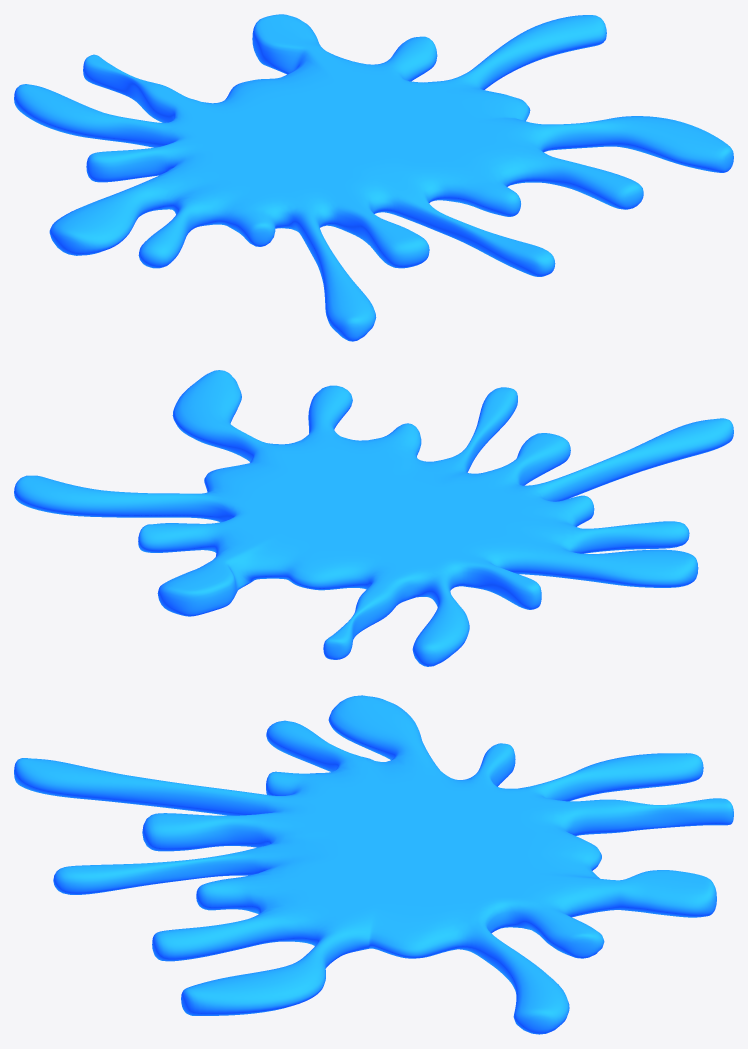
Rendered from BoyaLekesi.fbx.
3 renders of one model, top to bottom at view 1: azimuth 30°, elevation 25°; view 2: azimuth 150°, elevation 25°; view 3: azimuth 270°, elevation 25°, orthographic. The views are drawn at different scales.
Parts seen in each view (by area): view 1: Boya Lekesi; view 2: Boya Lekesi; view 3: Boya Lekesi.
Boxes of the visible parts, <box> form: Boya Lekesi: <box>14,14,733,341</box>; Boya Lekesi: <box>14,370,733,666</box>; Boya Lekesi: <box>14,695,733,1034</box>.
Size of the model in its own units: 323 by 12.96 by 306.
